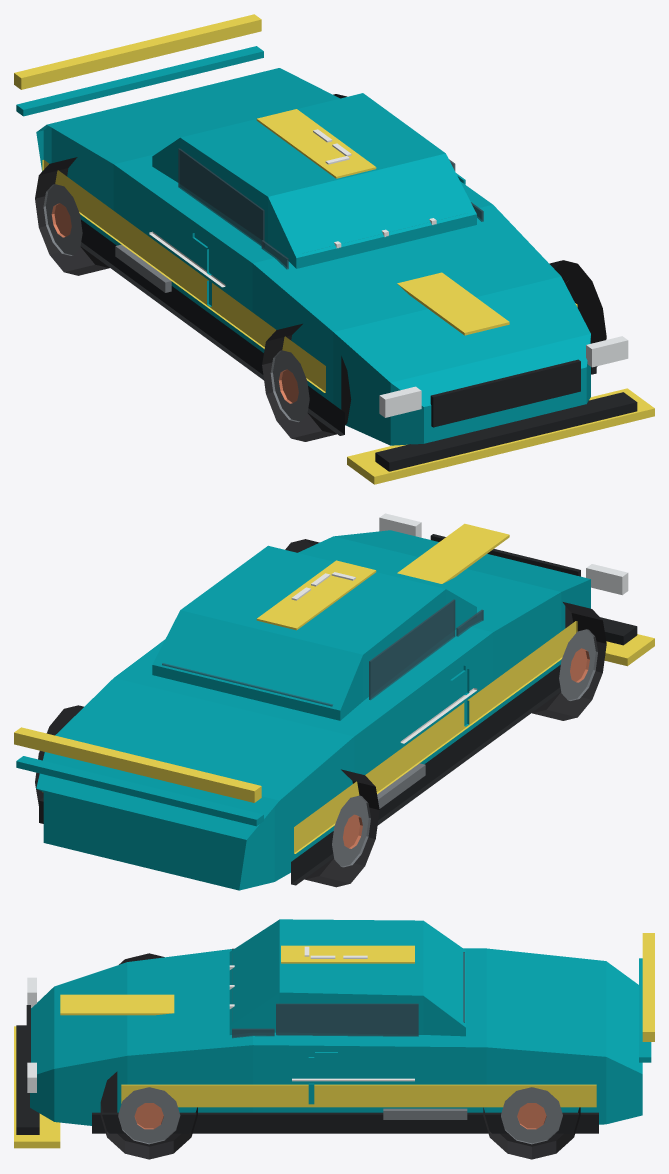
Rendered from web_stock_car_07.gltf.
The picture shows the model from 3 angles, top to bottom: view 1: azimuth 30°, elevation 25°; view 2: azimuth 150°, elevation 25°; view 3: azimuth 270°, elevation 25°; orthographic projection. The views are drawn at different scales.
Parts seen in each view (by area): view 1: WebStockCar_07; view 2: WebStockCar_07; view 3: WebStockCar_07.
Boxes of the visible parts, x1,y1,x2,y2 form: WebStockCar_07: [14, 14, 654, 484]; WebStockCar_07: [14, 513, 654, 890]; WebStockCar_07: [14, 919, 654, 1159].
Bounding box in the file's own units: 2.35 × 1.34 × 5.26.
